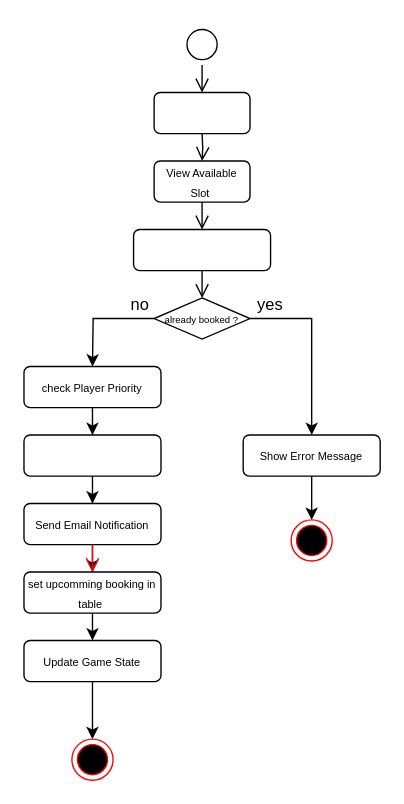
This 404x804 diagram has some shape labels left out. The centre of each missing label's shape, as x and y in pixels:
Assigned slot: the point at 92,455
Employee Login: the point at 201,112
Request Slot: the point at 201,249
